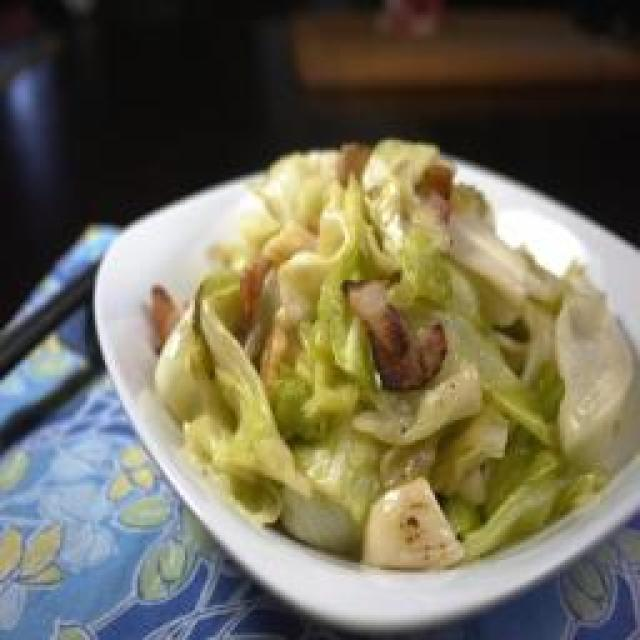Wet Waste: (200, 178, 590, 542)
